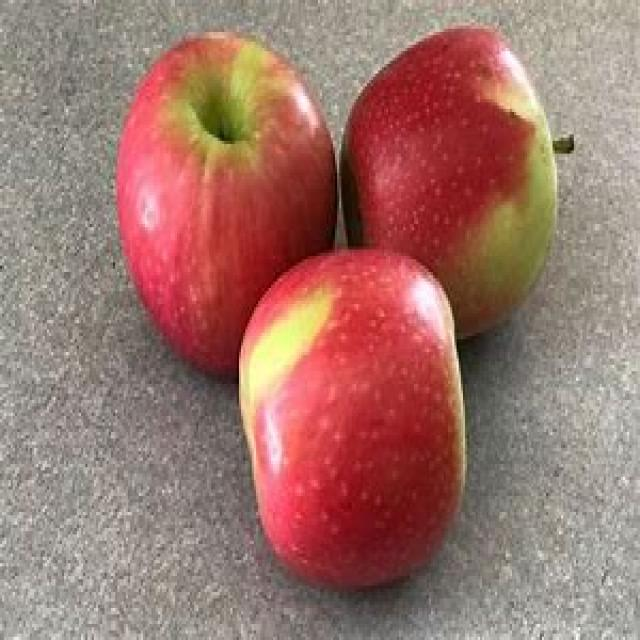apple: (238, 249, 467, 590), (341, 22, 578, 244), (116, 36, 337, 247)
